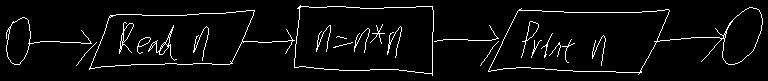arrow: (434, 25, 498, 65), (28, 30, 96, 65), (654, 28, 724, 61), (242, 29, 294, 53)
connection: (722, 7, 762, 64), (6, 17, 30, 64)
data: (488, 8, 669, 74), (89, 10, 254, 69)
process: (294, 5, 433, 75)
text: (521, 21, 605, 65), (119, 22, 208, 60), (316, 24, 401, 57)
